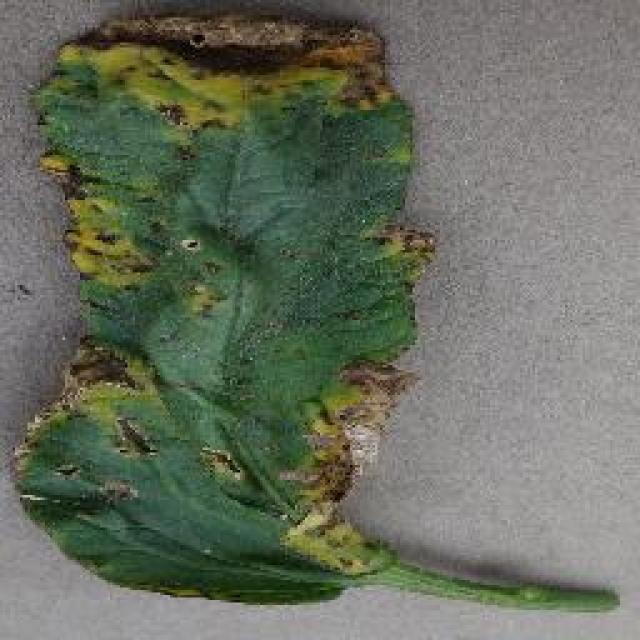Tomato___Bacterial_spot: (2, 0, 620, 616)
